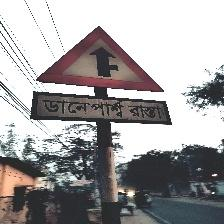Side-road-right: (32, 26, 171, 125)
